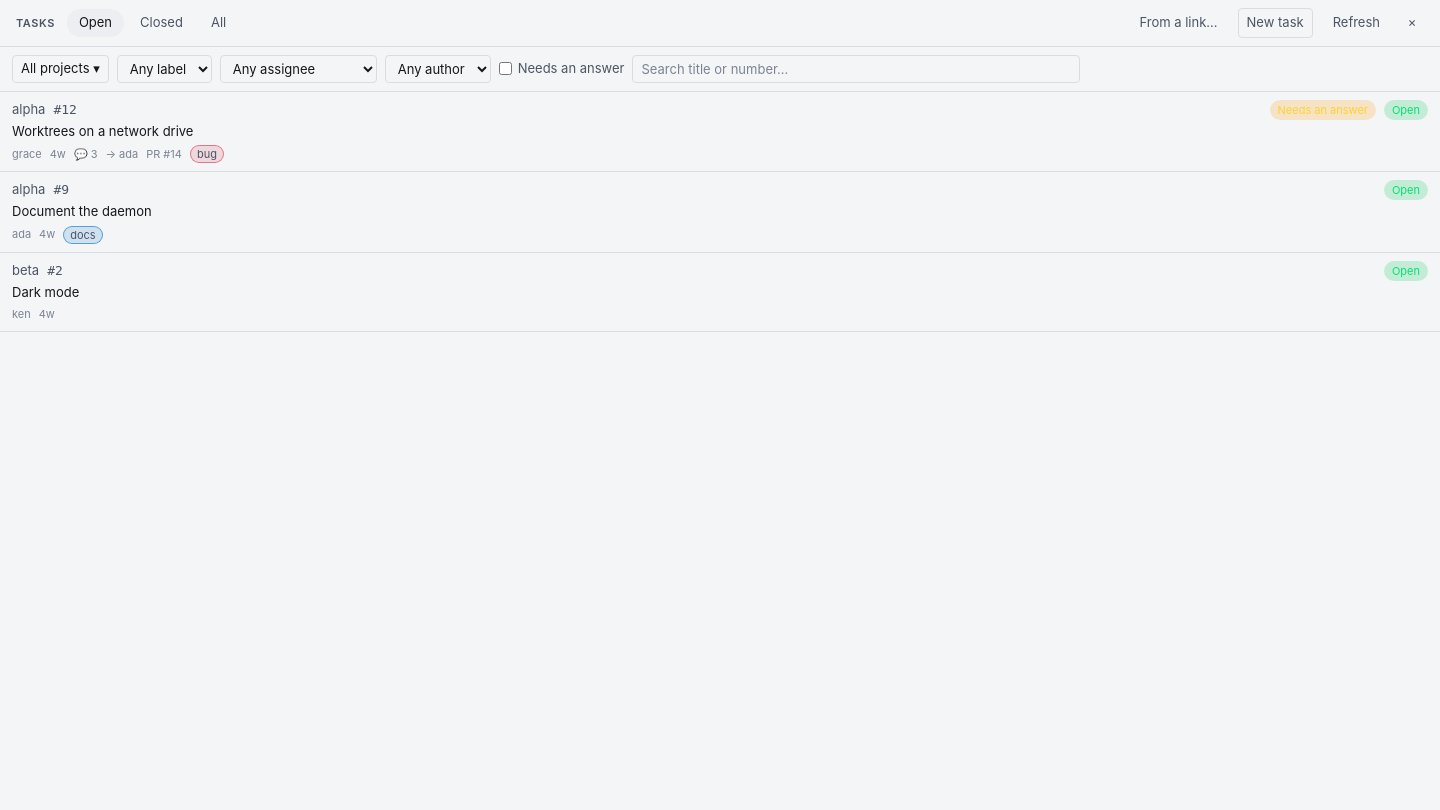
Test: one task in full › says so when there is no description and nobody has commented
The image size is (1440, 810).
Click the button "Worktrees".
click(29, 109)  # box [0,92,1439,171]
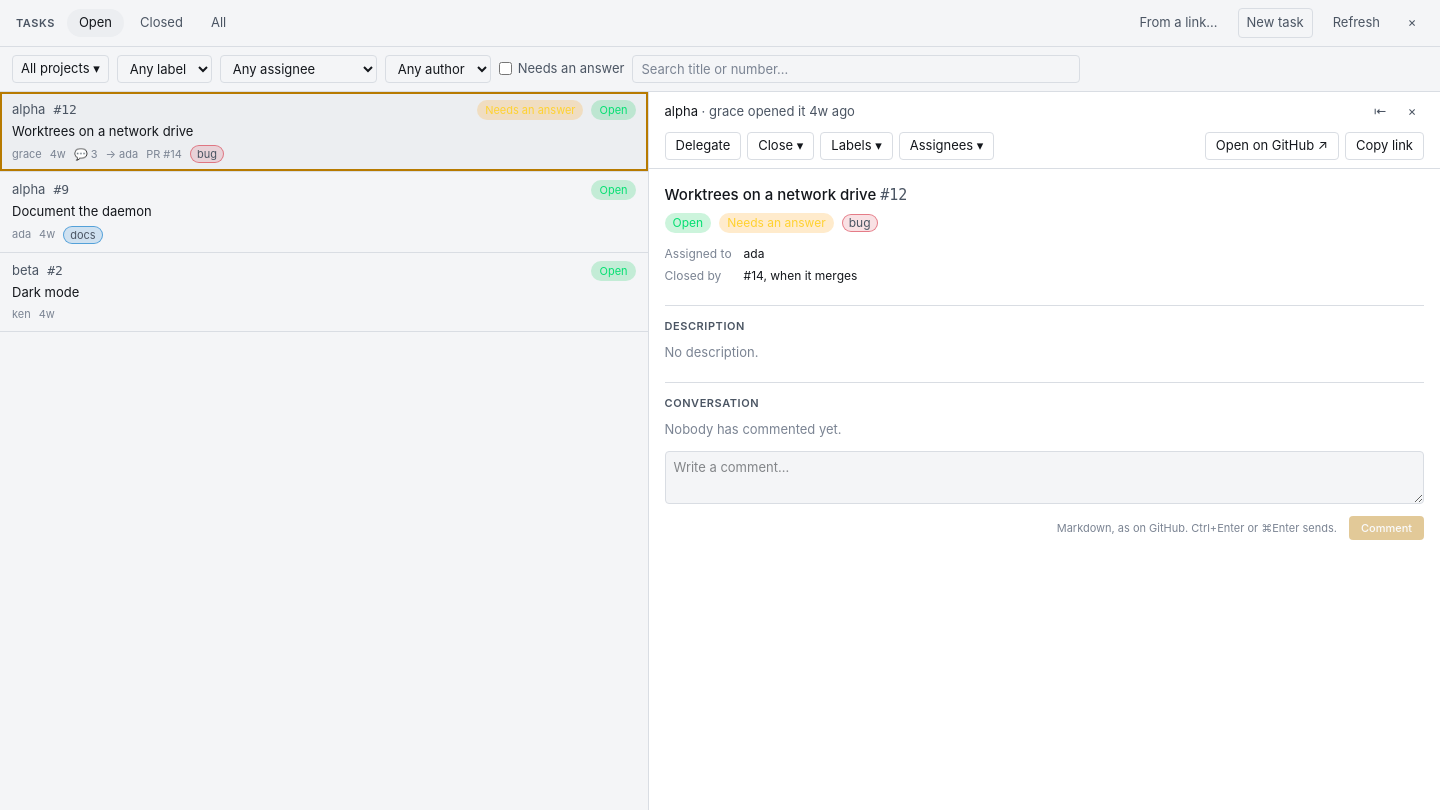
Now the text "No description." is shown, box [664,344,758,360]
Now the text "Nobody has commented yet." is shown, box [664,421,842,437]
